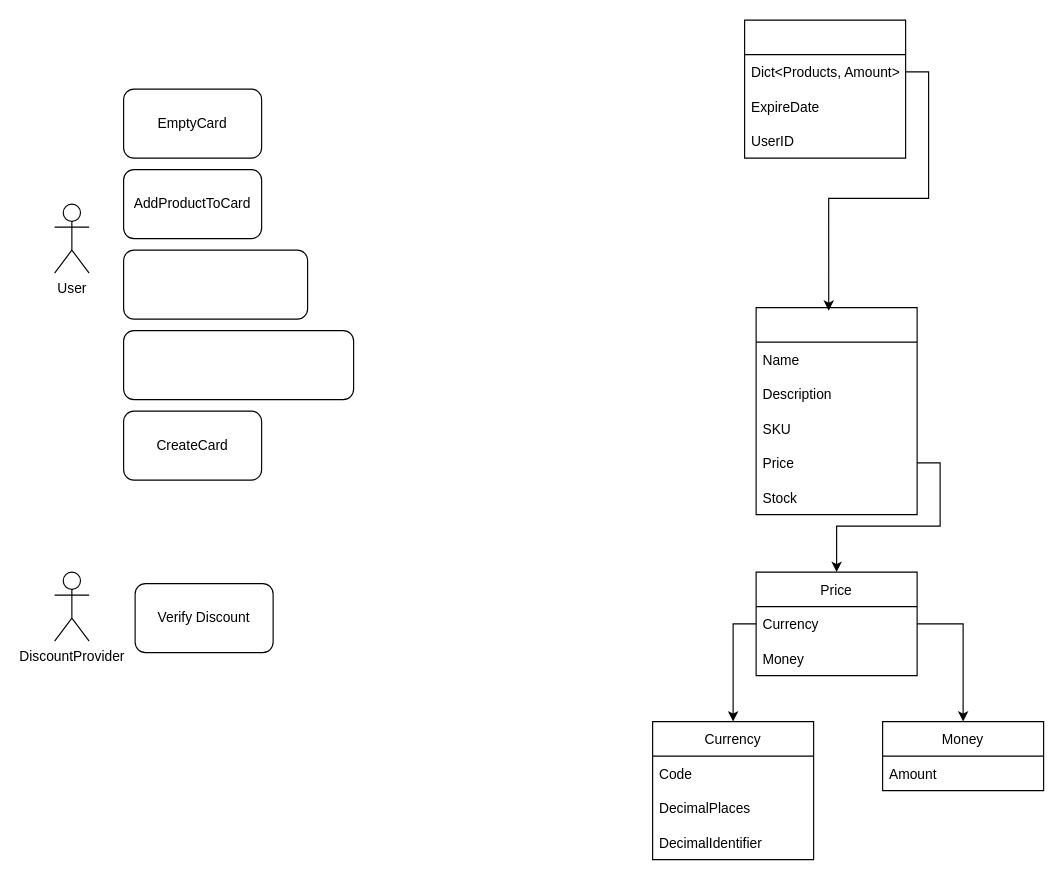
This 1064x880 diagram has some shape labels left out. The box of each missing label's shape, as (x1, y1, x2, y2) in pixels:
ApplyDiscount(IDIscountProvider): (122, 329, 354, 400)
Product: (755, 306, 917, 515)
RemoveProductFromCard: (122, 249, 308, 319)
ShoppingCart: (743, 19, 906, 158)
